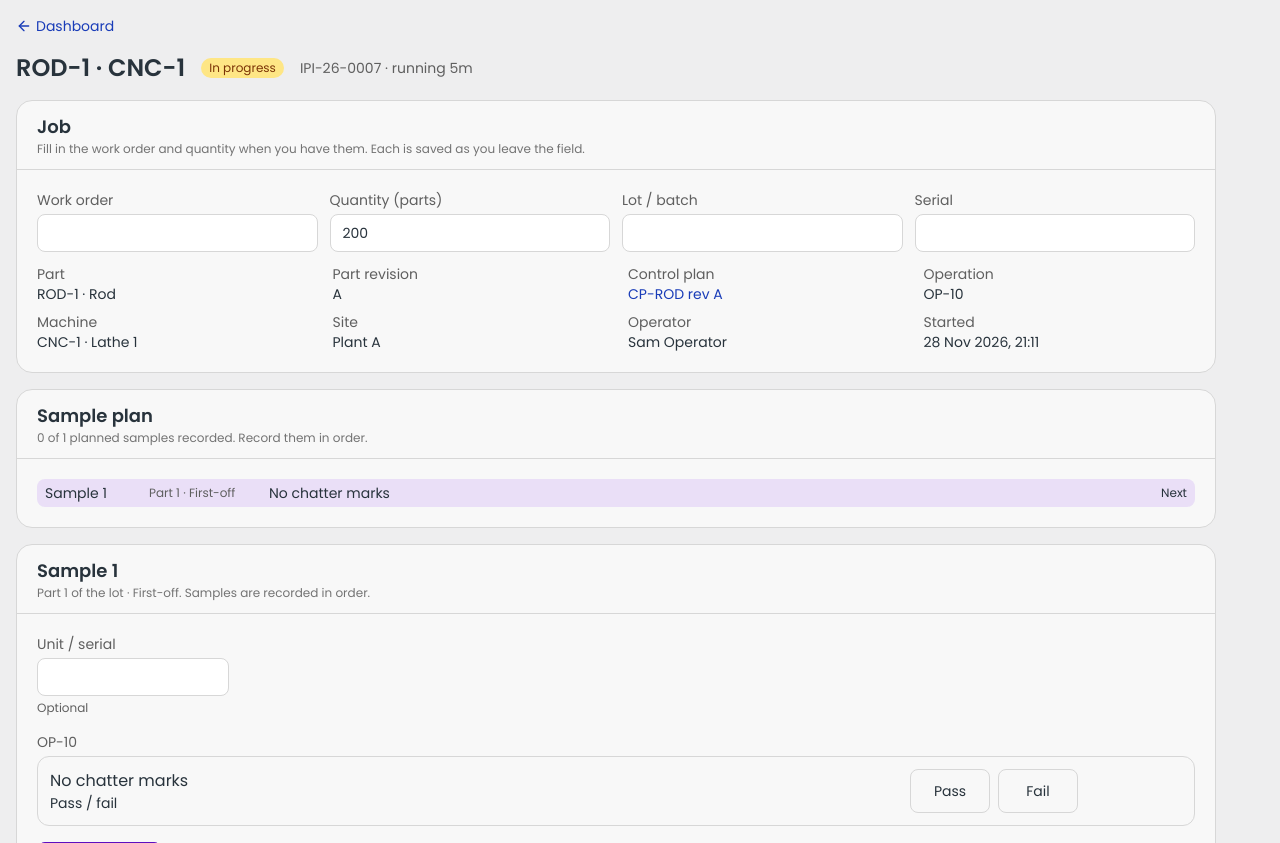
Test case: the job hub › refuses a quantity that is not a whole number and puts the saved one back
Replace the text in the field labelled "Quantity (parts)" with "12x" at point(470, 233), box x1=330 y1=214 x2=610 y2=252
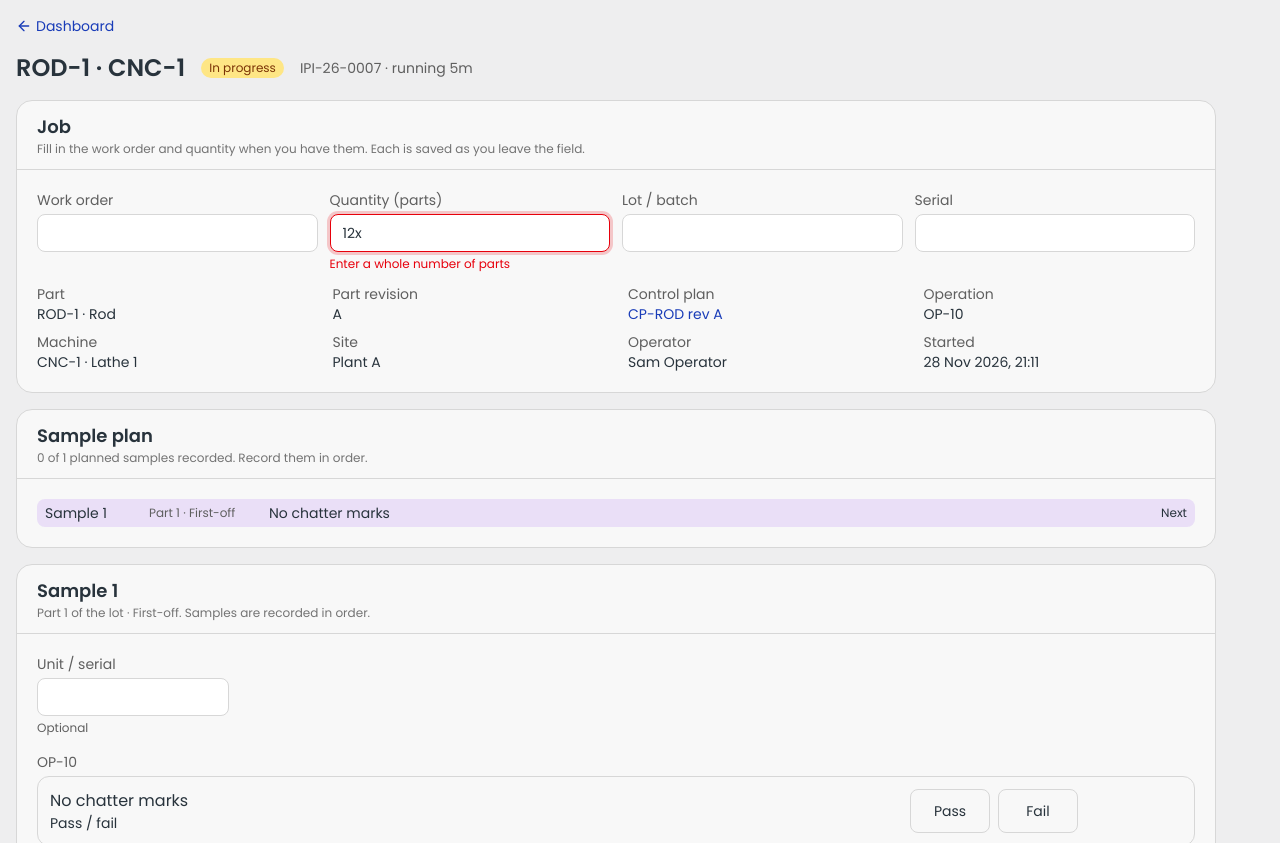
Press Tab
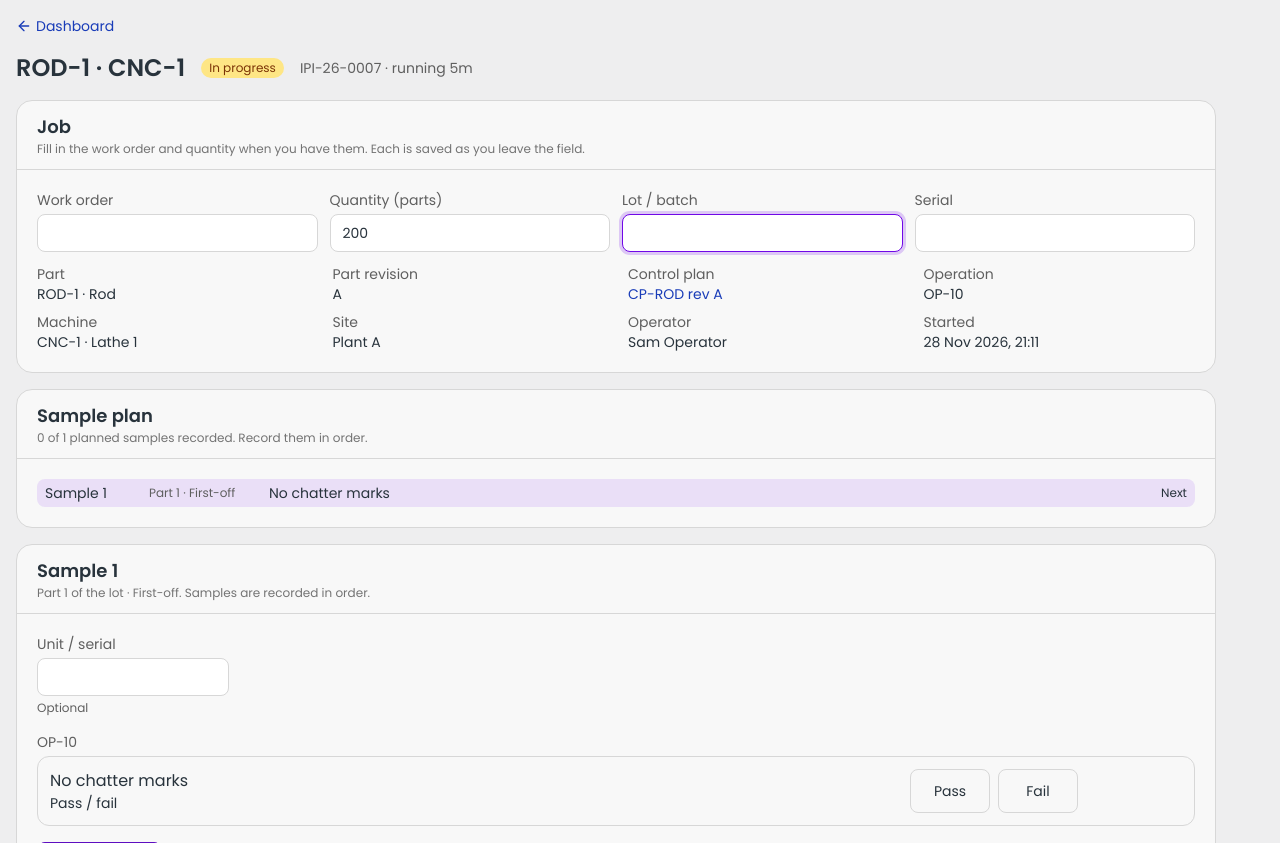
Check: the field labelled "Quantity (parts)" holds "200", box x1=330 y1=214 x2=610 y2=252
